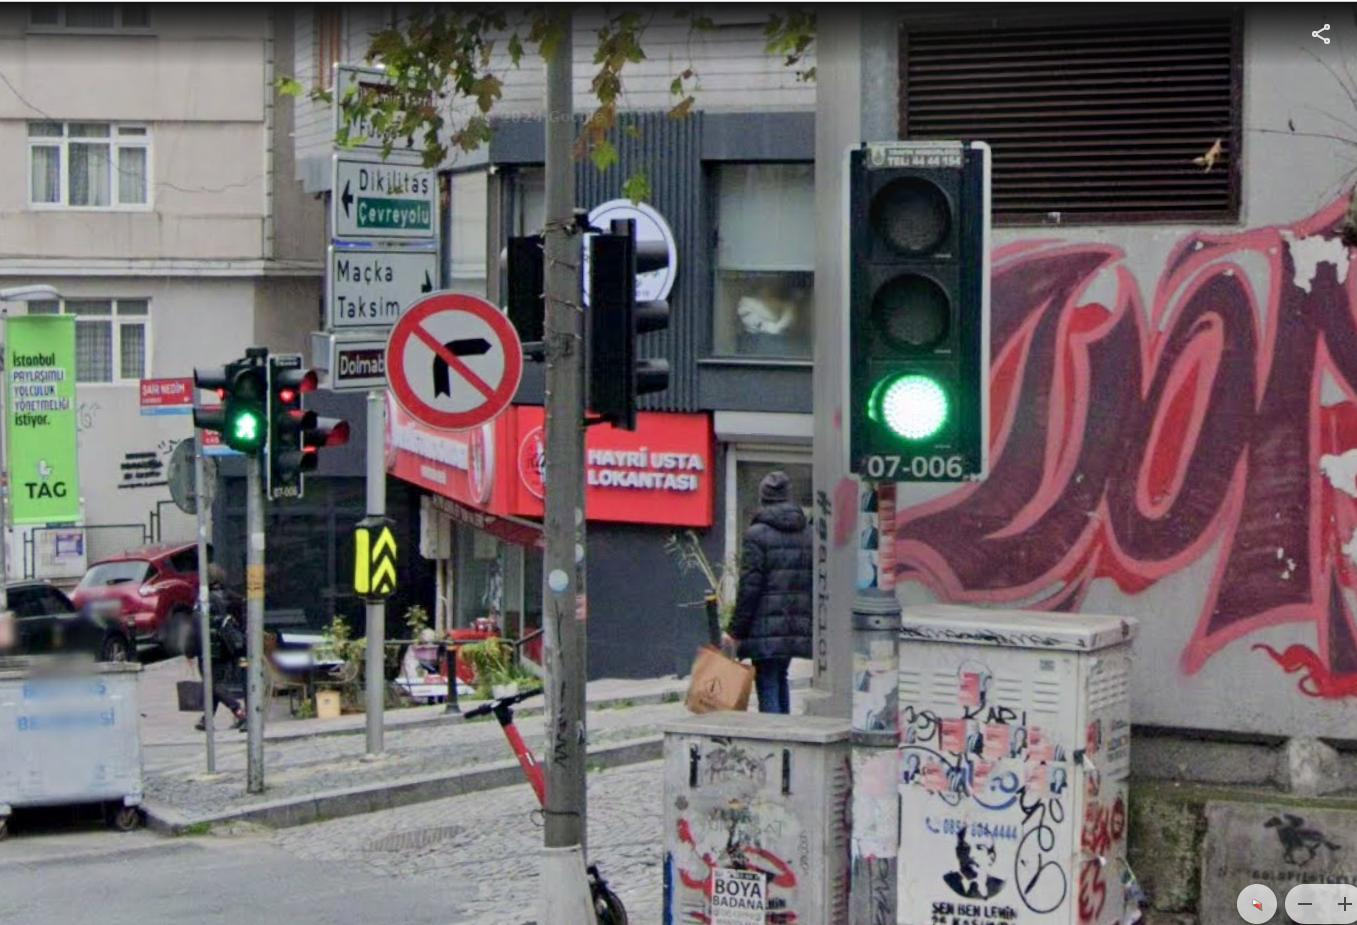greenlight: (850, 146, 978, 483)
redlight: (273, 360, 319, 490)
rightturnsareforbidden: (390, 298, 512, 412)
